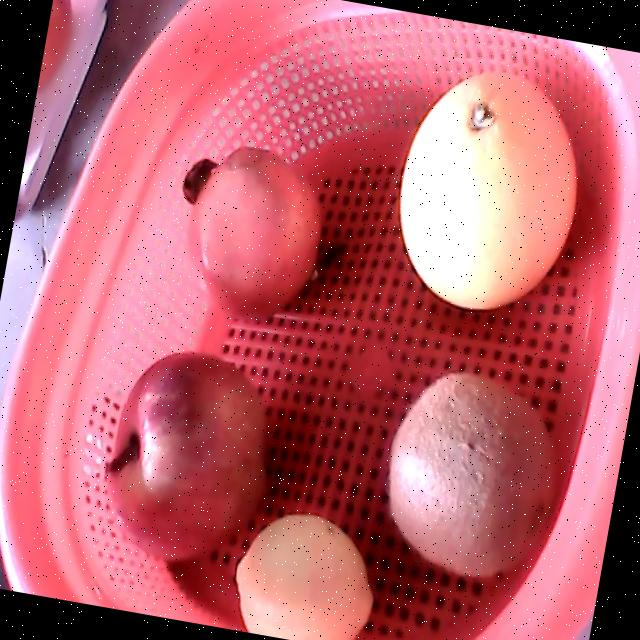apple: (105, 350, 267, 561)
kiwi: (387, 369, 555, 576)
lemon: (233, 513, 371, 640)
orange: (398, 68, 577, 309)
pomegranate: (181, 149, 323, 322)
